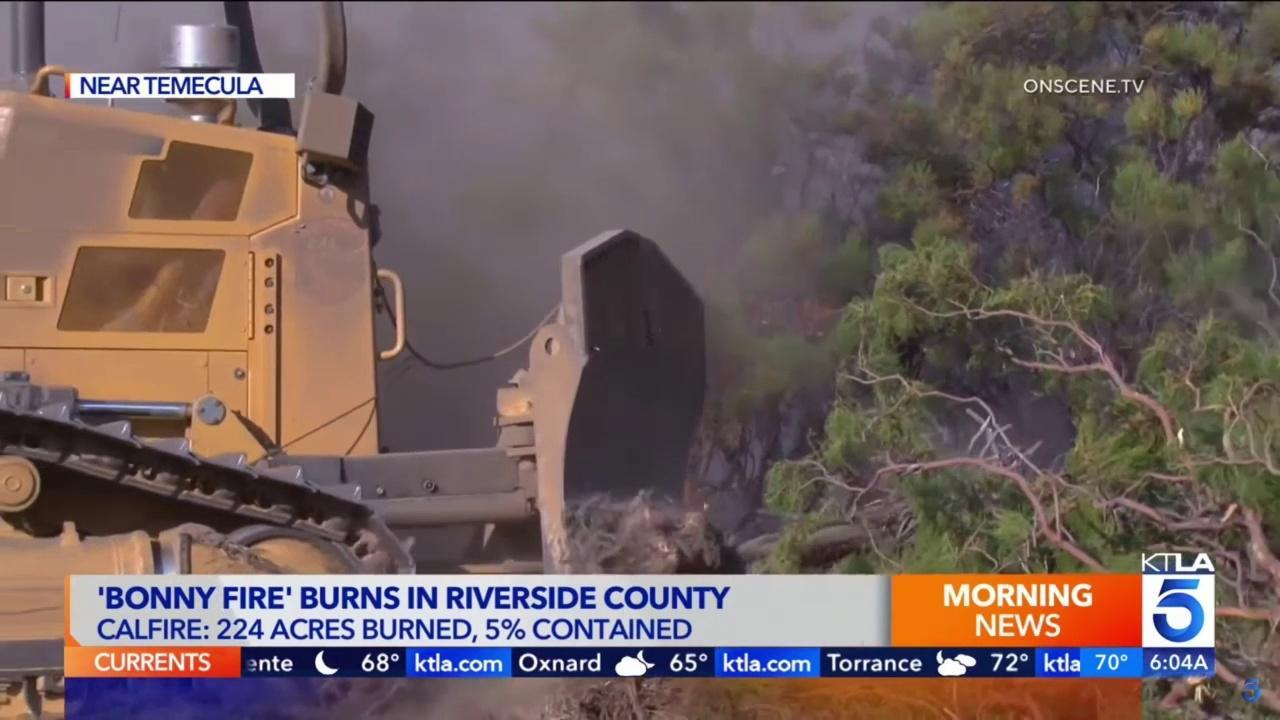smoke: (335, 2, 1147, 573)
